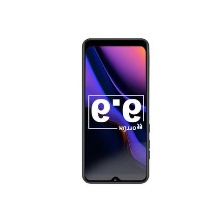phone: (77, 33, 150, 191)
